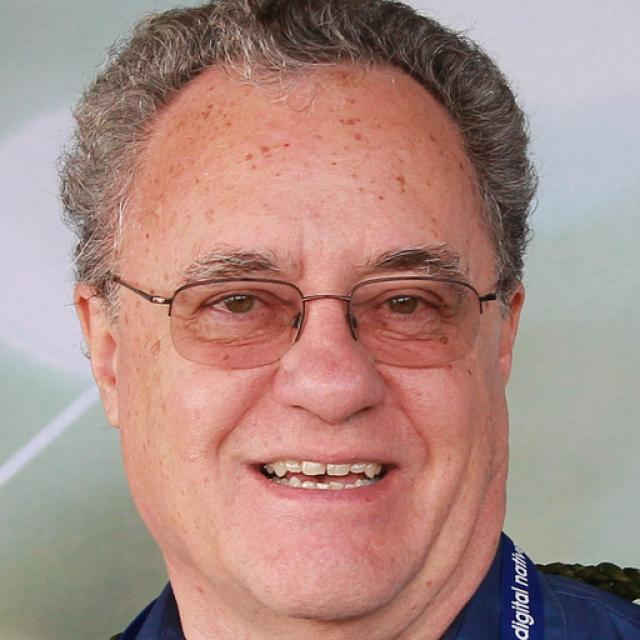Pigmentation: (346, 164, 412, 211), (240, 135, 298, 174)
